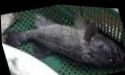fish: (4, 13, 125, 66)
